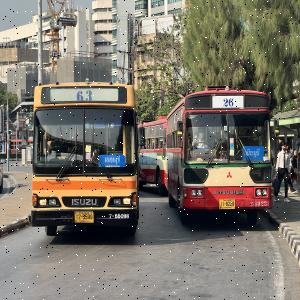BMTA-bus: (29, 83, 140, 236), (167, 88, 275, 225), (139, 117, 168, 198)
Bus Line Number: (73, 88, 95, 104), (220, 95, 236, 110)
Bus Side Number: (106, 210, 132, 221), (248, 199, 270, 209)
Destination Sign: (98, 154, 126, 167), (242, 145, 265, 160)
